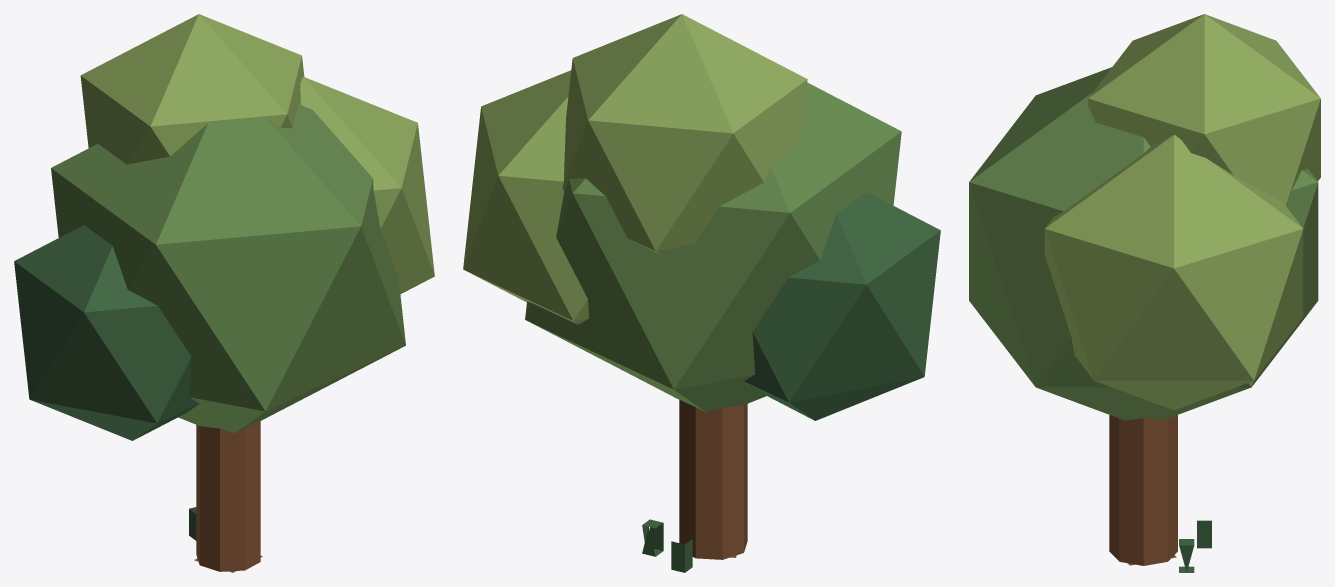
Rendered from tree.glb.
3 renders of one model, left to right at view 1: azimuth 30°, elevation 25°; view 2: azimuth 150°, elevation 25°; view 3: azimuth 270°, elevation 25°, orthographic. The views are drawn at different scales.
Parts seen in each view (by area): view 1: village_tree; view 2: village_tree; view 3: village_tree.
Part boxes in pixels (x1=…): village_tree: x1=14, y1=14, x2=434, y2=572; village_tree: x1=463, y1=14, x2=940, y2=572; village_tree: x1=969, y1=14, x2=1320, y2=572.
Size of the model in its own units: 62.99 by 78 by 46.28.
